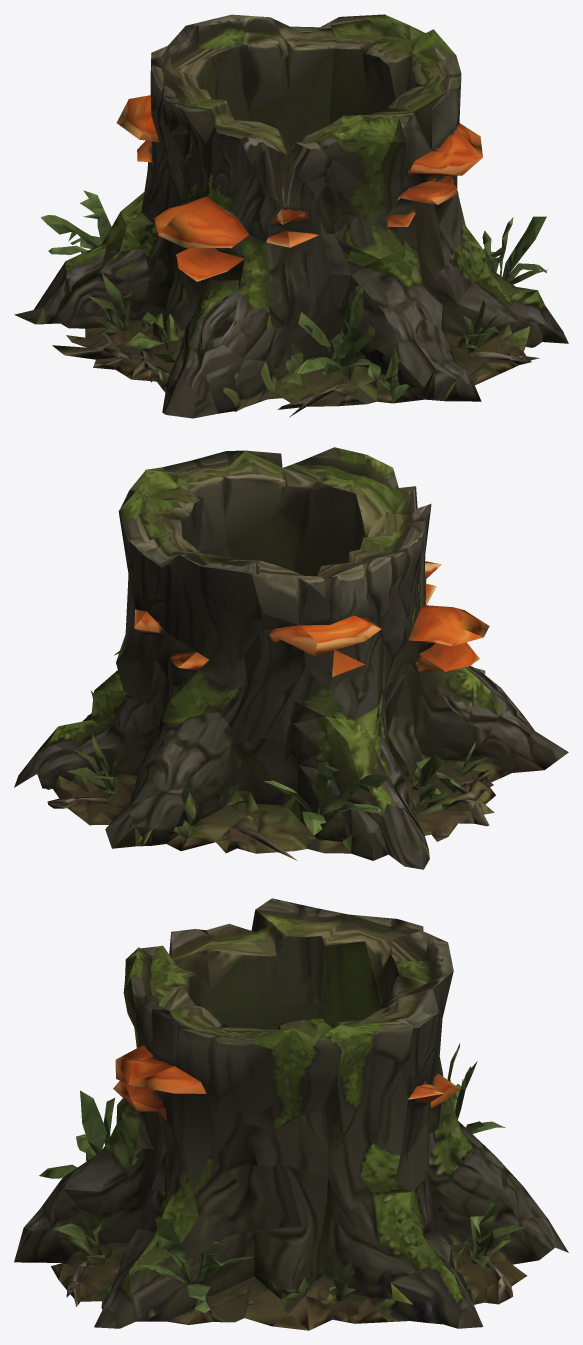
Rendered from toco_oco.glb.
3 renders of one model, top to bottom at view 1: azimuth 30°, elevation 25°; view 2: azimuth 150°, elevation 25°; view 3: azimuth 270°, elevation 25°, orthographic. The views are drawn at different scales.
Parts seen in each view (by area): view 1: geometry_0; view 2: geometry_0; view 3: geometry_0.
Part boxes in pixels (x1,y1,x2,y2): geometry_0: (14, 14, 568, 418); geometry_0: (14, 447, 568, 869); geometry_0: (14, 898, 568, 1330).
Bounding box in the file's own units: 0.931 × 0.5332 × 0.9646.
1 material, 1 textured.
